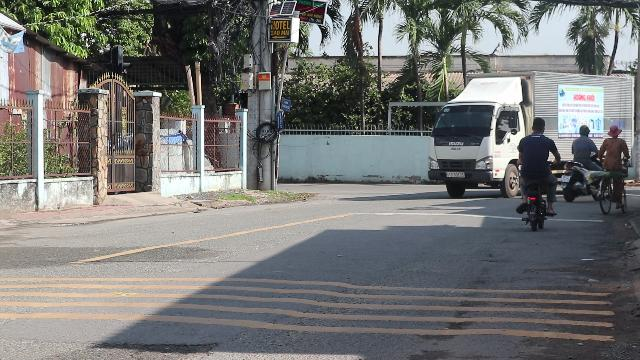motorcyclist: (513, 116, 559, 230)
nohelmet: (530, 116, 546, 134)
